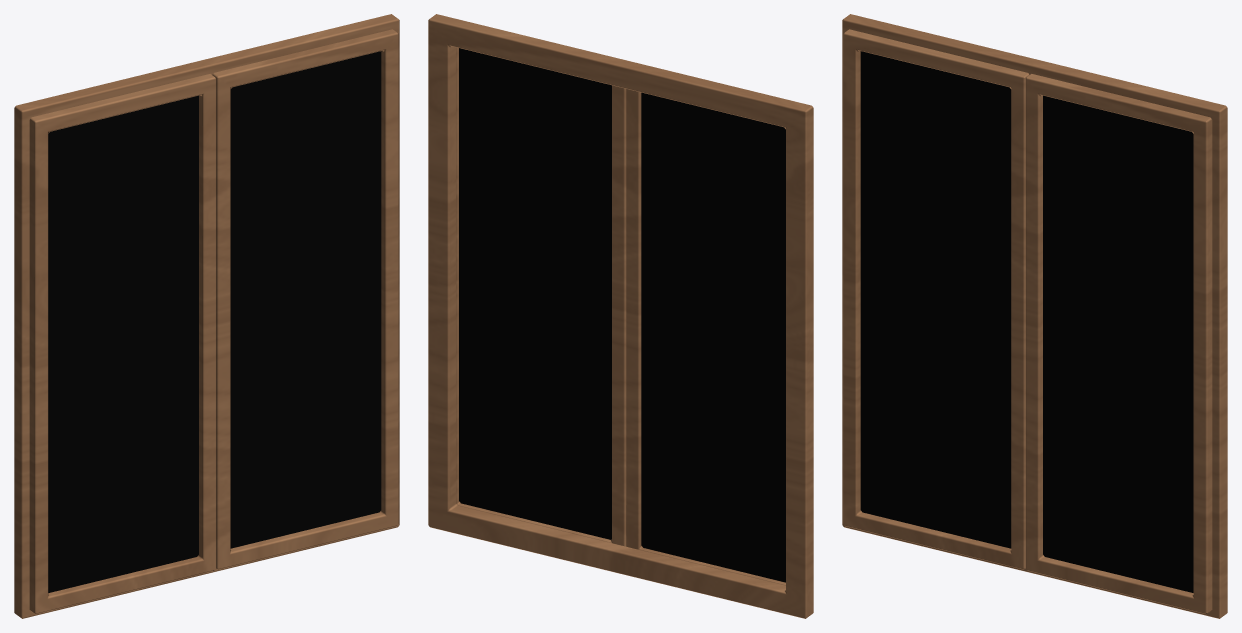
Rendered from window.glb.
3 renders of one model, left to right at view 1: azimuth 30°, elevation 25°; view 2: azimuth 150°, elevation 25°; view 3: azimuth 330°, elevation 25°, orthographic.
Parts seen in each view (by area): view 1: glass, window.001; view 2: glass, window.001; view 3: glass, window.001.
Part boxes in pixels (box(x1,y1,x2,y2)): glass: box(48, 51, 381, 592); window.001: box(14, 14, 399, 618); glass: box(459, 48, 785, 582); window.001: box(428, 14, 813, 618); glass: box(860, 51, 1193, 592); window.001: box(842, 14, 1227, 618).
Size of the model in its own units: 1.06 by 1.36 by 0.07.
2 materials, 1 textured.
